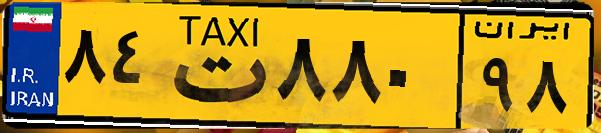0: (385, 28, 445, 110)
4: (110, 28, 158, 98)
8: (270, 28, 330, 110), (330, 28, 385, 110), (57, 26, 110, 100), (525, 38, 570, 115)
9: (475, 38, 525, 113)
ت: (158, 12, 270, 120)
